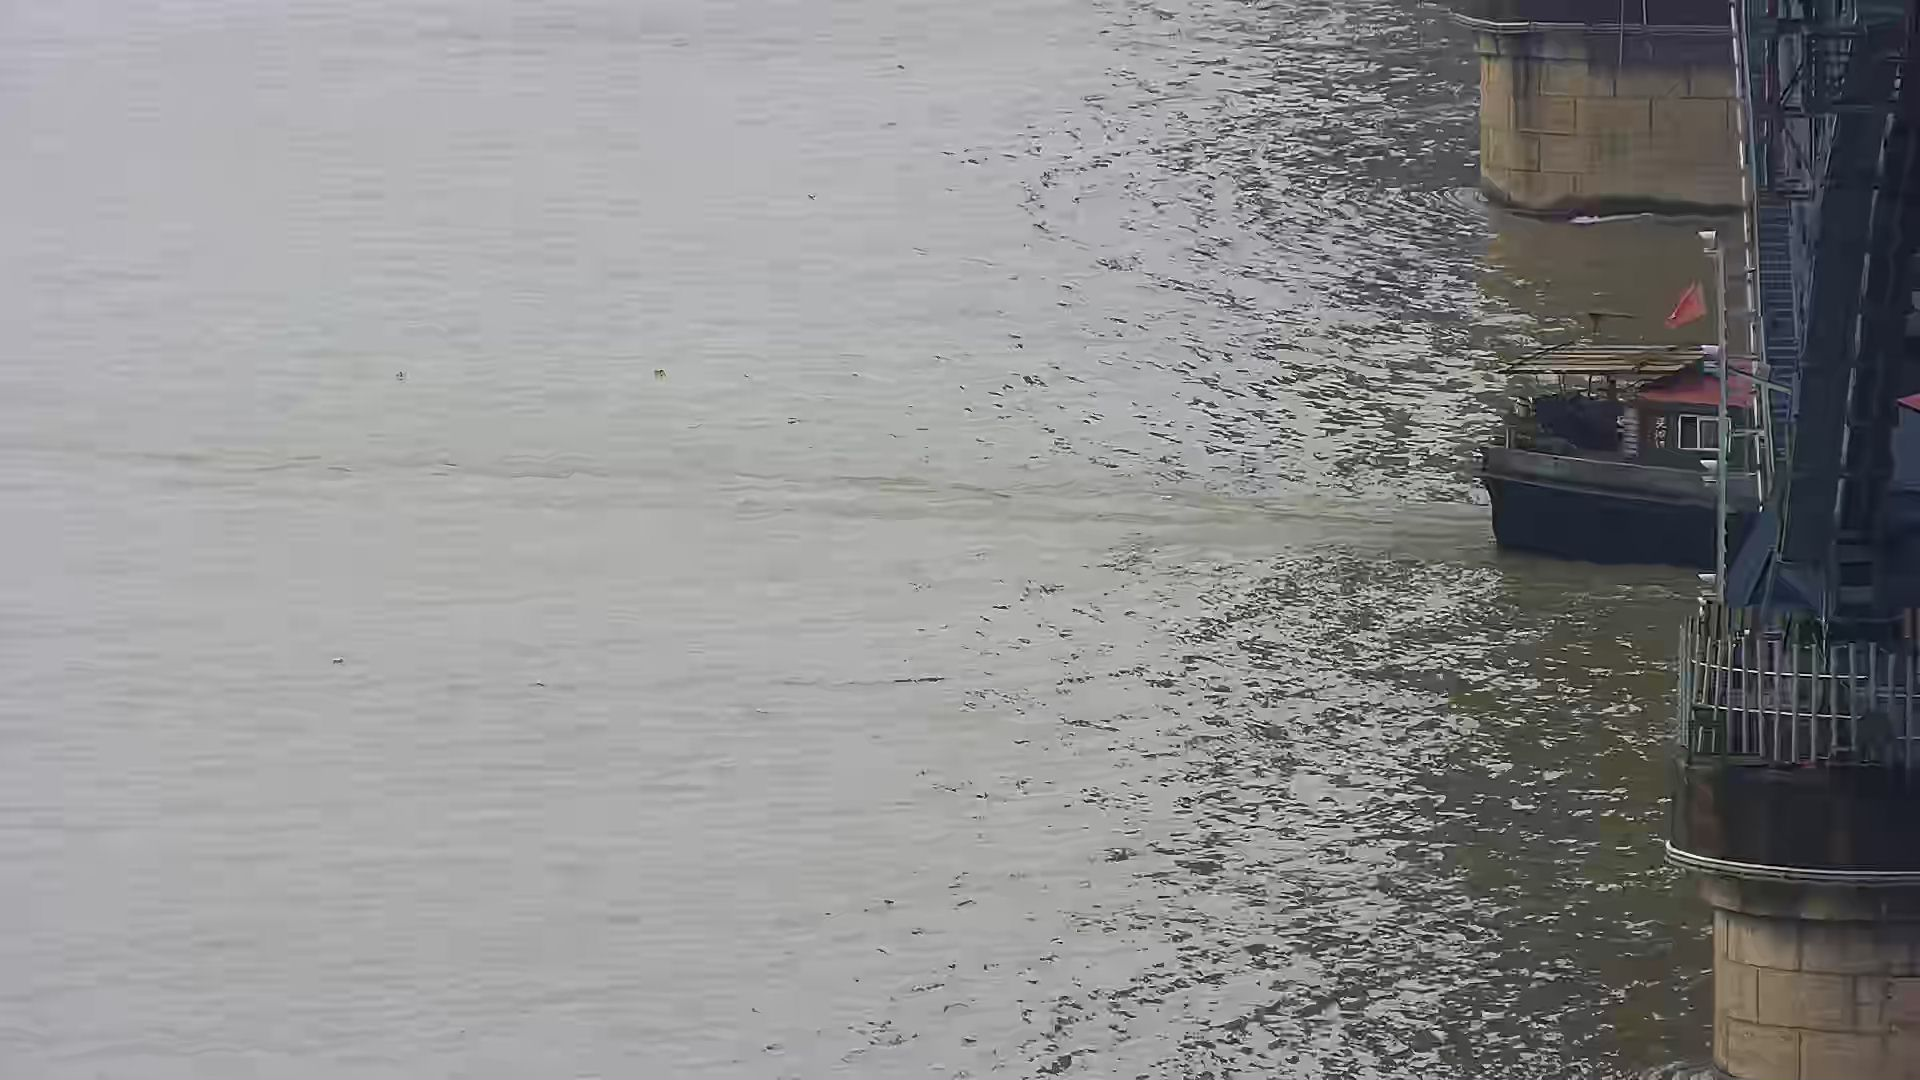bridge: (1436, 3, 1920, 1080)
ship: (1472, 269, 1780, 567)
